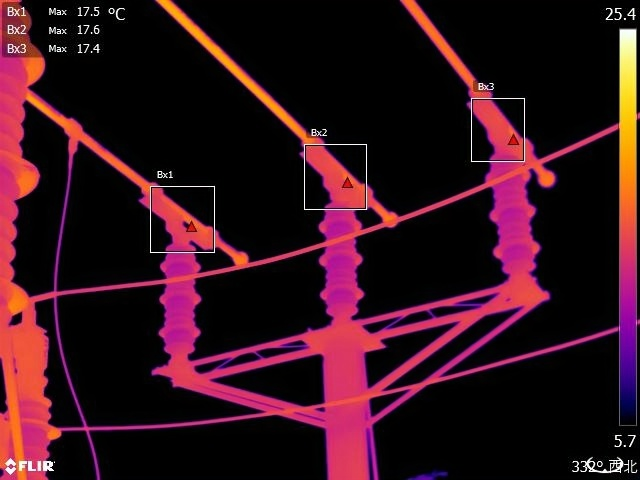clamp: (55, 111, 91, 161)
post insulator: (1, 5, 59, 346), (488, 146, 545, 273), (4, 377, 72, 480), (315, 201, 367, 319), (159, 230, 204, 355)
